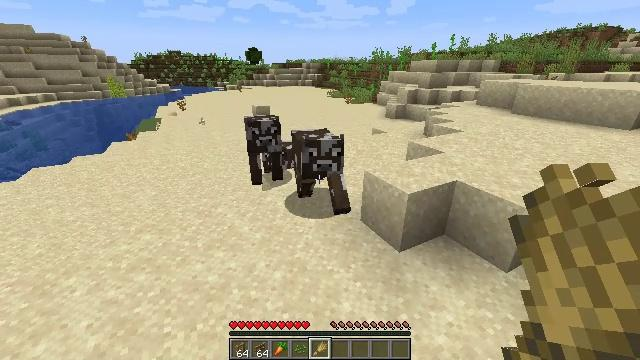cow: (292, 129, 351, 212), (242, 113, 282, 183)
